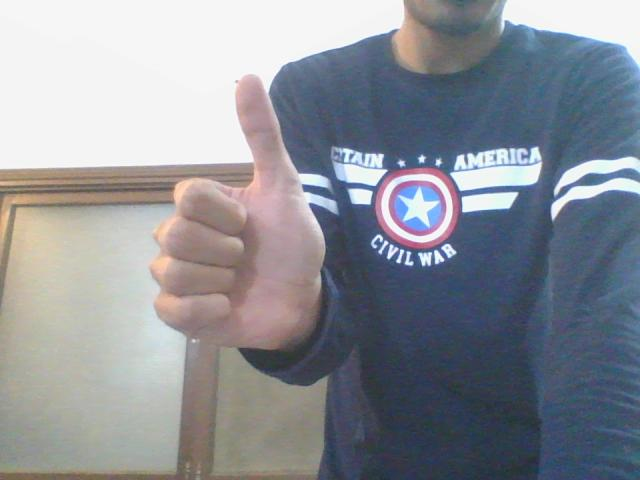thumbs-up: (148, 76, 325, 361)
